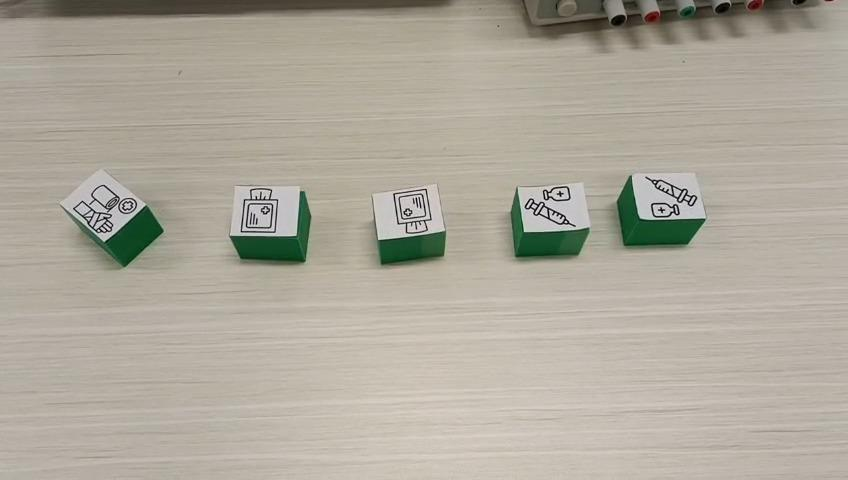Bandages: (57, 167, 164, 266)
Gauze: (230, 186, 312, 263), (371, 183, 446, 265)
antiseptic cream: (615, 170, 707, 245), (509, 181, 590, 256)
